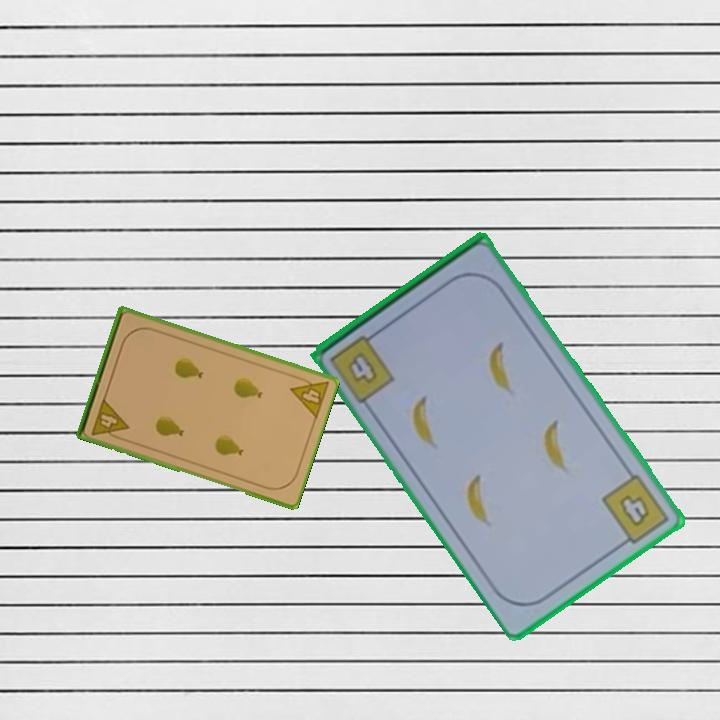4b: (598, 470, 672, 551), (326, 326, 398, 406)
4p: (287, 371, 331, 421), (88, 394, 131, 443)
